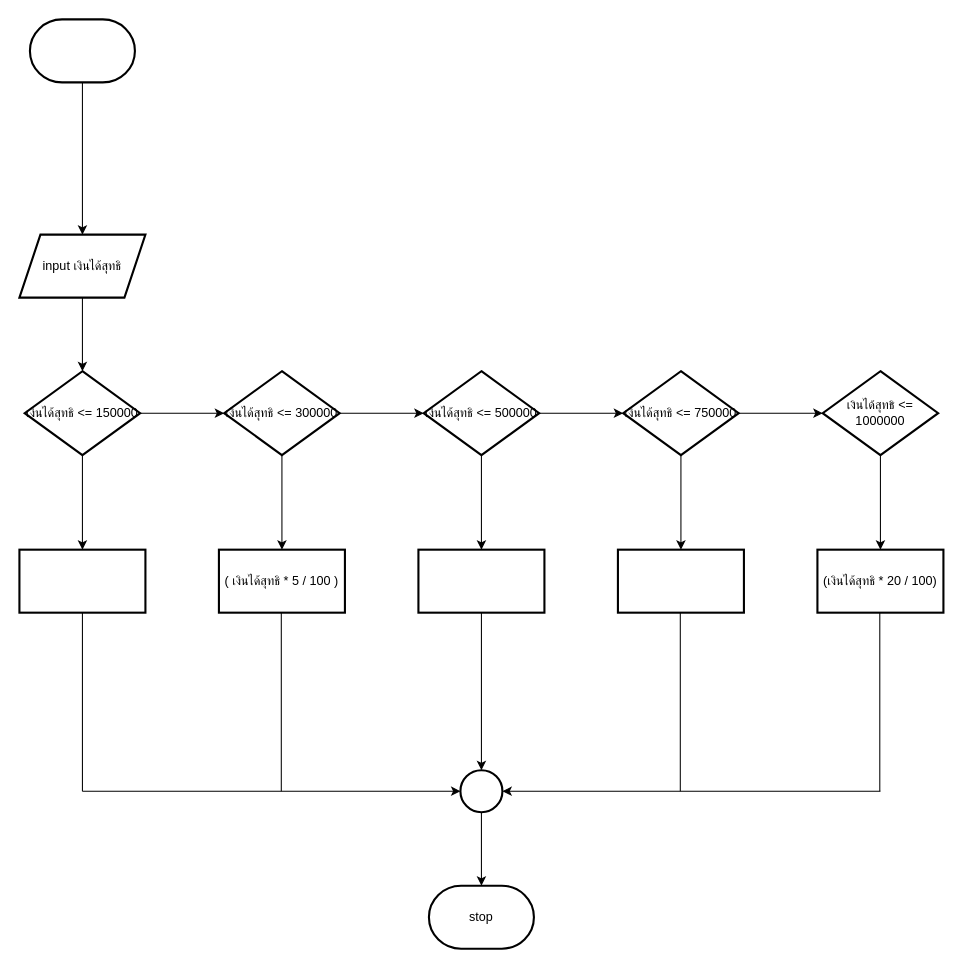
Image size: 962x967. Some labels were removed from this diagram. Each missing label, with the centre of its shape:
"(เงินได้สุทธิ * 10 / 100)" belongs at pixel 481 580.
"(เงินได้สุทธิ * 15 / 100)" belongs at pixel 680 580.
"start" belongs at pixel 81 50.
"เงินได้สุทธิ * 0" belongs at pixel 82 580.
